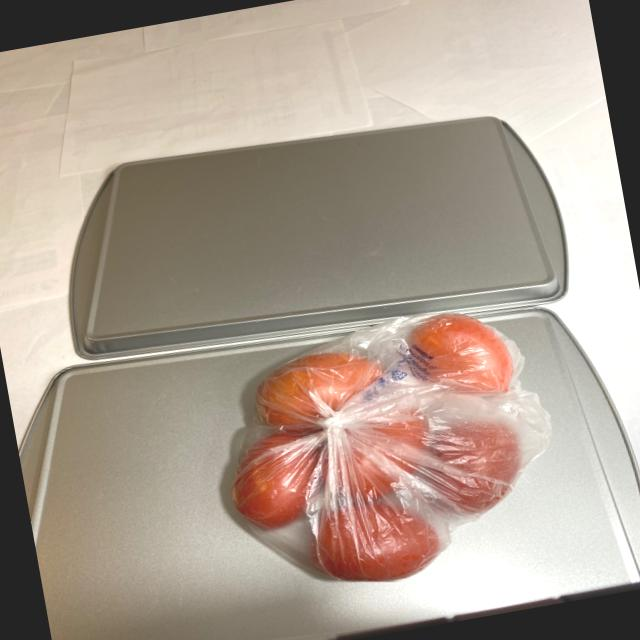tomato: (215, 299, 545, 602)
